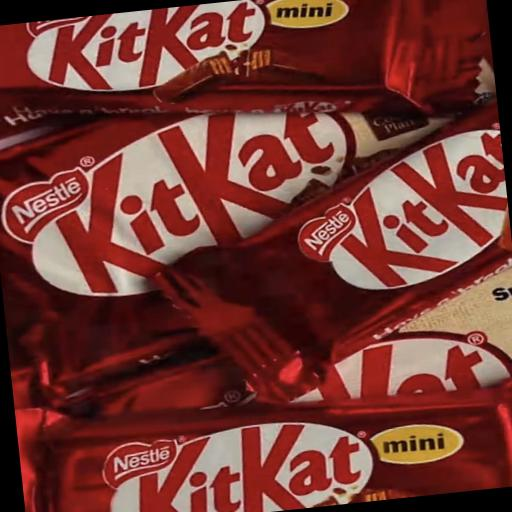kitkat: (0, 0, 499, 179), (21, 350, 512, 512)
